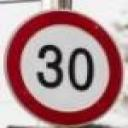speed_limit_30: (1, 8, 128, 127)
